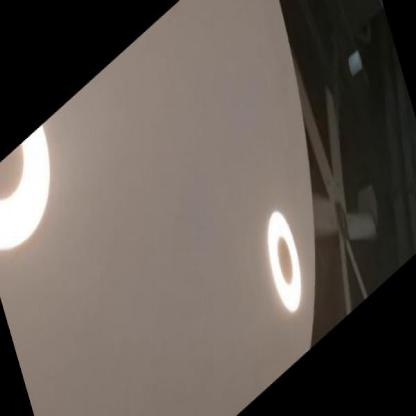light_on: (0, 89, 82, 298), (246, 172, 324, 340)
